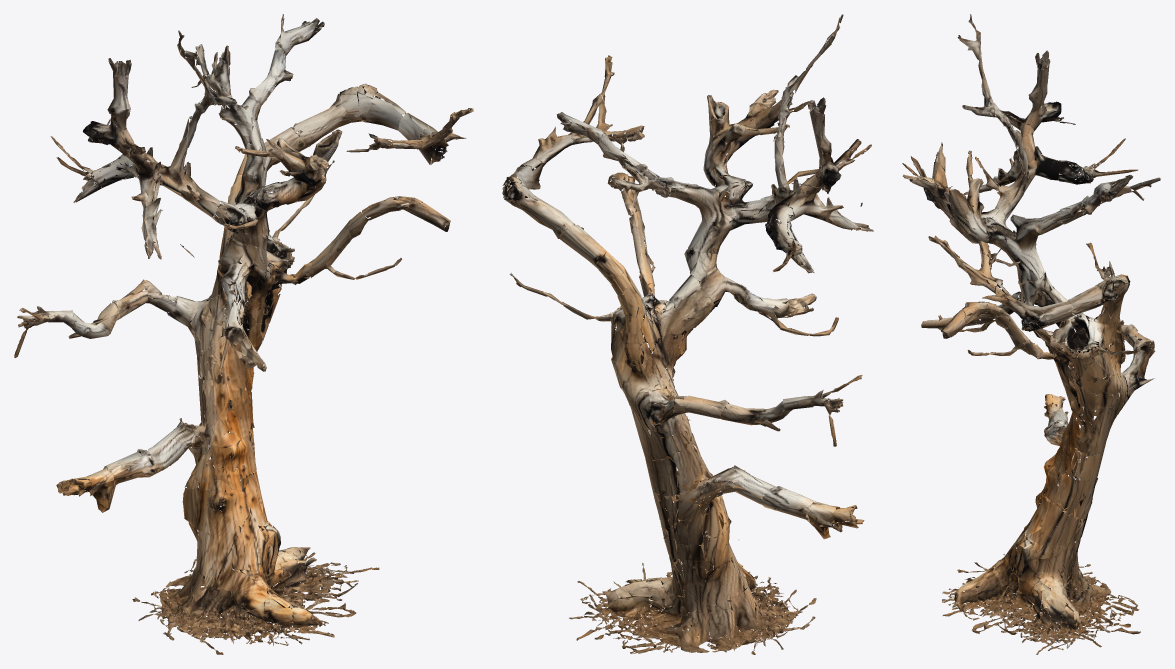
File: tree_old_02.glb
3 renders of one model, left to right at view 1: azimuth 30°, elevation 25°; view 2: azimuth 150°, elevation 25°; view 3: azimuth 270°, elevation 25°, orthographic. The views are drawn at different scales.
Visible parts, largest first — view 1: Object_5; view 2: Object_5; view 3: Object_5.
Boxes of the visible parts, x1,y1,x2,y2 form: Object_5: [14, 14, 473, 654]; Object_5: [502, 14, 873, 654]; Object_5: [902, 14, 1160, 654].
Size of the model in its own units: 5.19 by 8 by 3.44.
Materials: 1 (1 with a texture image).
